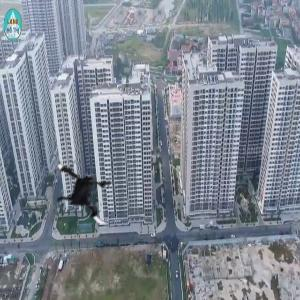drone: (41, 146, 130, 235)
